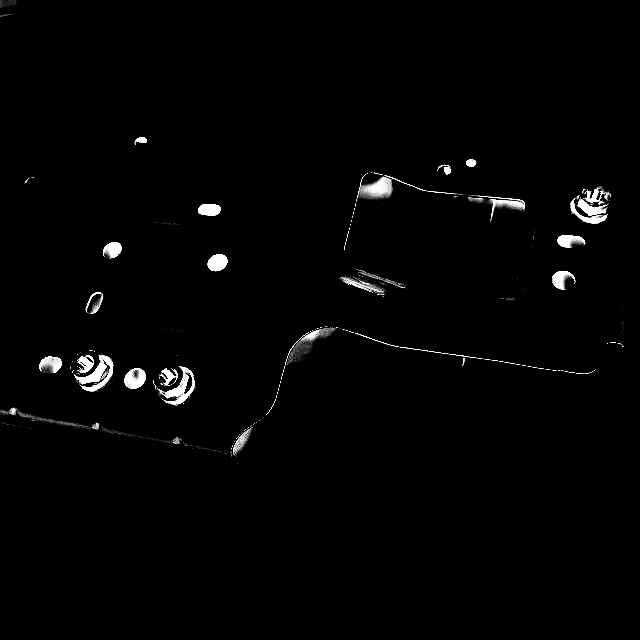dog: (68, 349, 118, 394), (151, 361, 198, 406), (569, 182, 615, 225)
